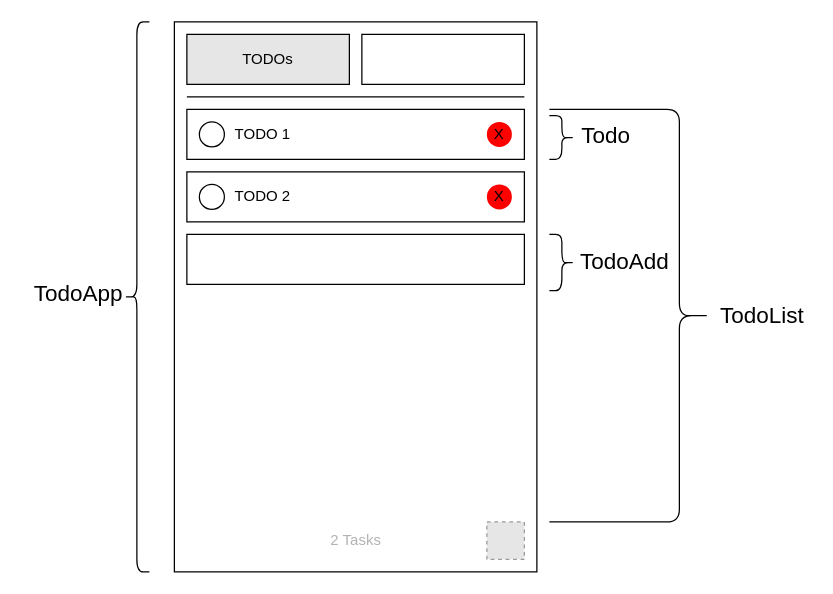
The diagram is 833 pixels wide and 594 high, and some of its shapes have lost their labels. Grey dashed boxes stand in for pictures. The shapes that lost their labels are listed below. From the top down, each one's box as (x1, y1, x2, y2) in pixels, then its label:
(361, 33, 524, 84): Completed
(186, 233, 524, 284): type your todo, and press enter to add
